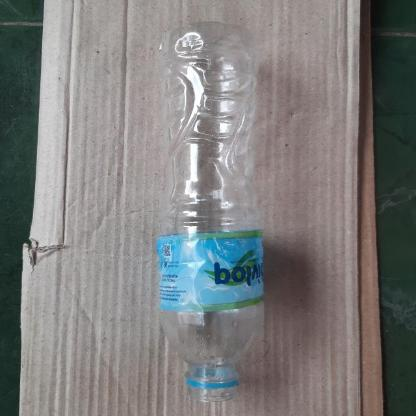Plastic Bottle: (158, 25, 264, 405)
